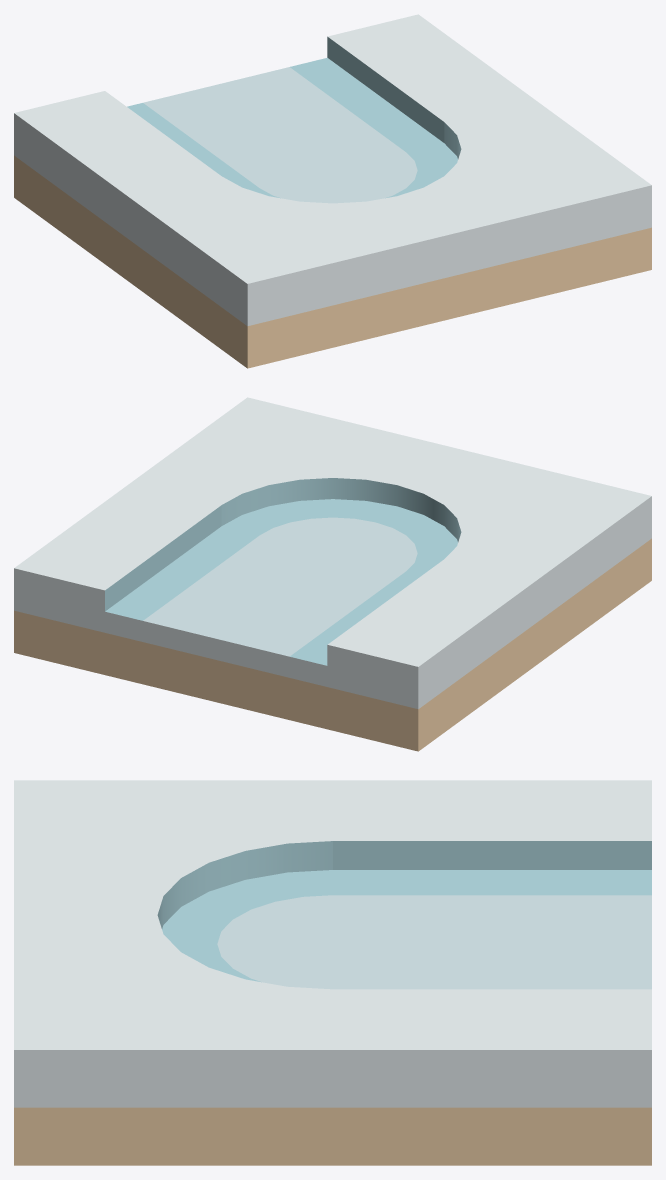
File: snow_tile_endRound.glb
3 renders of one model, top to bottom at view 1: azimuth 30°, elevation 25°; view 2: azimuth 150°, elevation 25°; view 3: azimuth 270°, elevation 25°, orthographic. The views are drawn at different scales.
Visible parts, largest first — view 1: snow_tile_endRound; view 2: snow_tile_endRound; view 3: snow_tile_endRound.
Part boxes in pixels (x1=…): snow_tile_endRound: x1=14, y1=14, x2=651, y2=368; snow_tile_endRound: x1=14, y1=397, x2=651, y2=751; snow_tile_endRound: x1=14, y1=780, x2=651, y2=1165.
Size of the model in its own units: 1 by 0.2 by 1.
